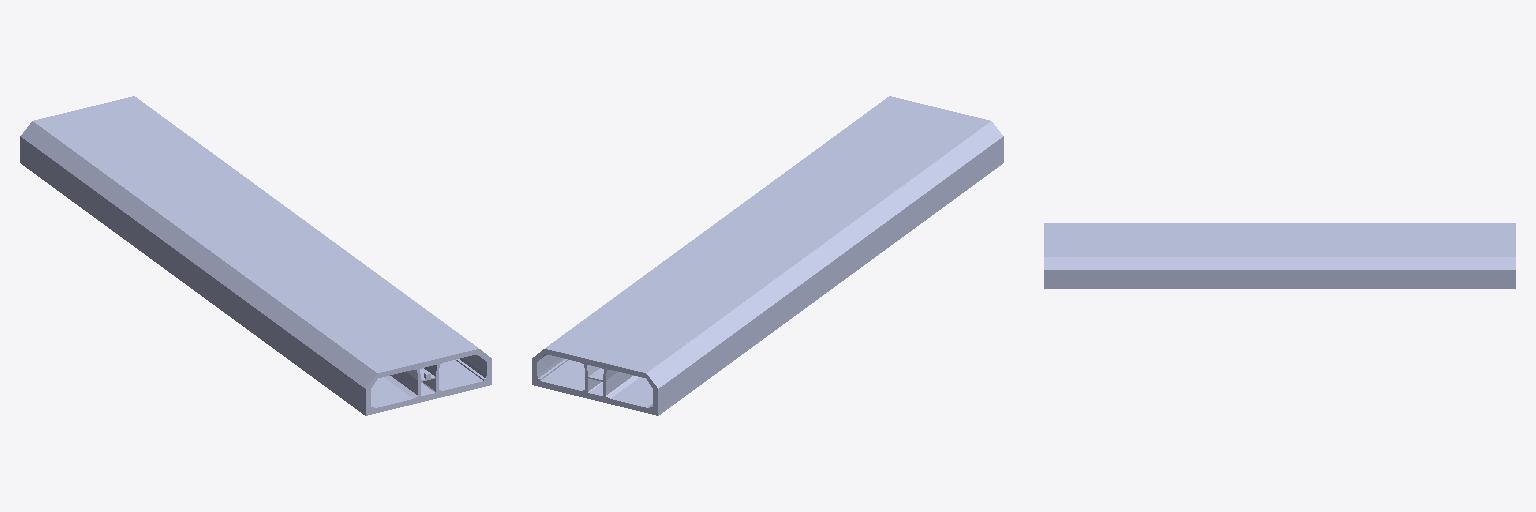
robot.urdf — suidao2:
<?xml version="1.0" encoding="utf-8"?>
<!-- This URDF was automatically created by SolidWorks to URDF Exporter! Originally created by [author] ([email redacted]) 
     Commit Version: 1.5.1-0-g916b5db  Build Version: 1.5.7152.31018
     For more information, please see http://wiki.ros.org/sw_urdf_exporter -->
<robot
  name="suidao2">
  <link
    name="base_link">
    <inertial>
      <origin
        xyz="-2.0257 -9.7044 180.01"
        rpy="0 0 0" />
      <mass
        value="27826000" />
      <inertia
        ixx="75667000000"
        ixy="13456000"
        ixz="35273"
        iyy="78829000000"
        iyz="-280730"
        izz="4217300000" />
    </inertial>
    <visual>
      <origin
        xyz="0 0 0"
        rpy="0 0 0" />
      <geometry>
        <mesh
          filename="package://suidao2/meshes/base_link.STL" />
      </geometry>
      <material
        name="">
        <color
          rgba="0.79216 0.81961 0.93333 1" />
      </material>
    </visual>
    <collision>
      <origin
        xyz="0 0 0"
        rpy="0 0 0" />
      <geometry>
        <mesh
          filename="package://suidao2/meshes/base_link.STL" />
      </geometry>
    </collision>
  </link>
</robot>

--- Render facts (derived) ---
The picture shows the robot from 3 angles, left to right: view 1: azimuth 30°, elevation 25°; view 2: azimuth 150°, elevation 25°; view 3: azimuth 270°, elevation 25°; orthographic projection.
Robot: suidao2 — 1 links, 0 joints (none); root link base_link; default pose: all joints at 0.
Links seen in each view (by area): view 1: base_link; view 2: base_link; view 3: base_link.
Link boxes in pixels (x1,y1,x2,y2): base_link: (20, 96, 491, 415); base_link: (532, 96, 1003, 415); base_link: (1044, 223, 1515, 288).
Size in the robot's own frame: 37.95 by 180 by 11.4 metres.
1 mesh visuals loaded from 1 distinct referenced files (1 binary STL).
